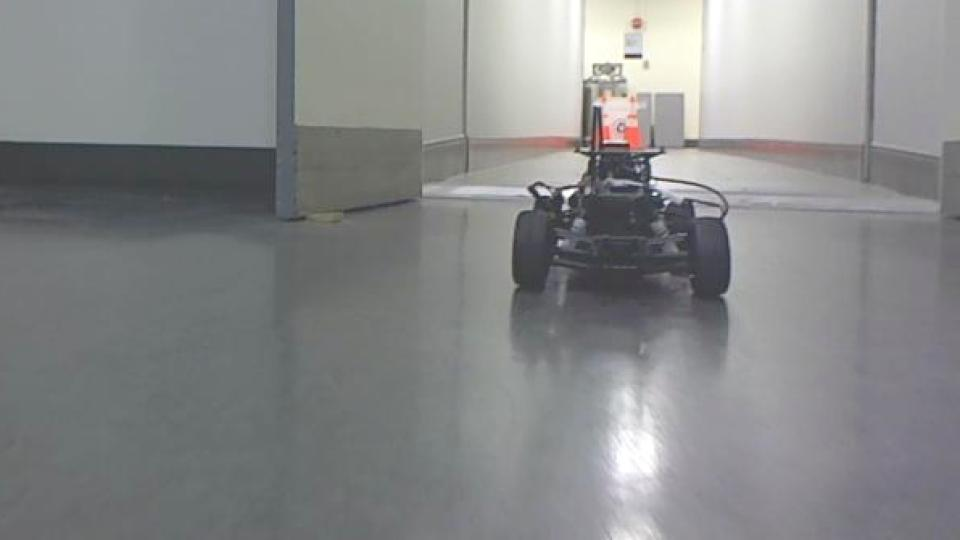car: (507, 70, 734, 302)
